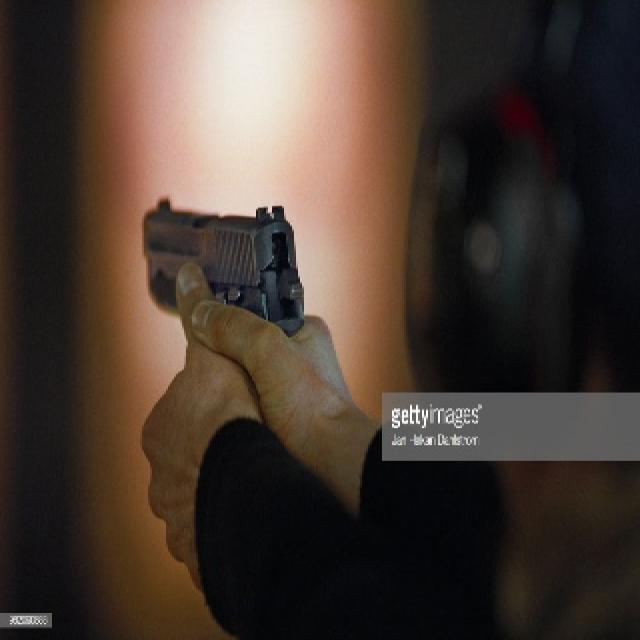weapon: (136, 195, 306, 332)
